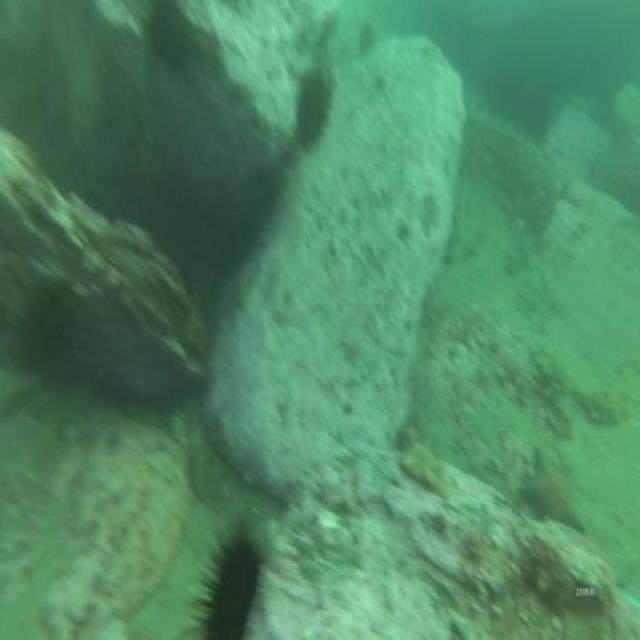echinus: (198, 528, 262, 640), (293, 64, 337, 160), (143, 5, 201, 77)
holothurian: (396, 428, 452, 503), (583, 372, 640, 421)
starfish: (517, 439, 587, 536)
